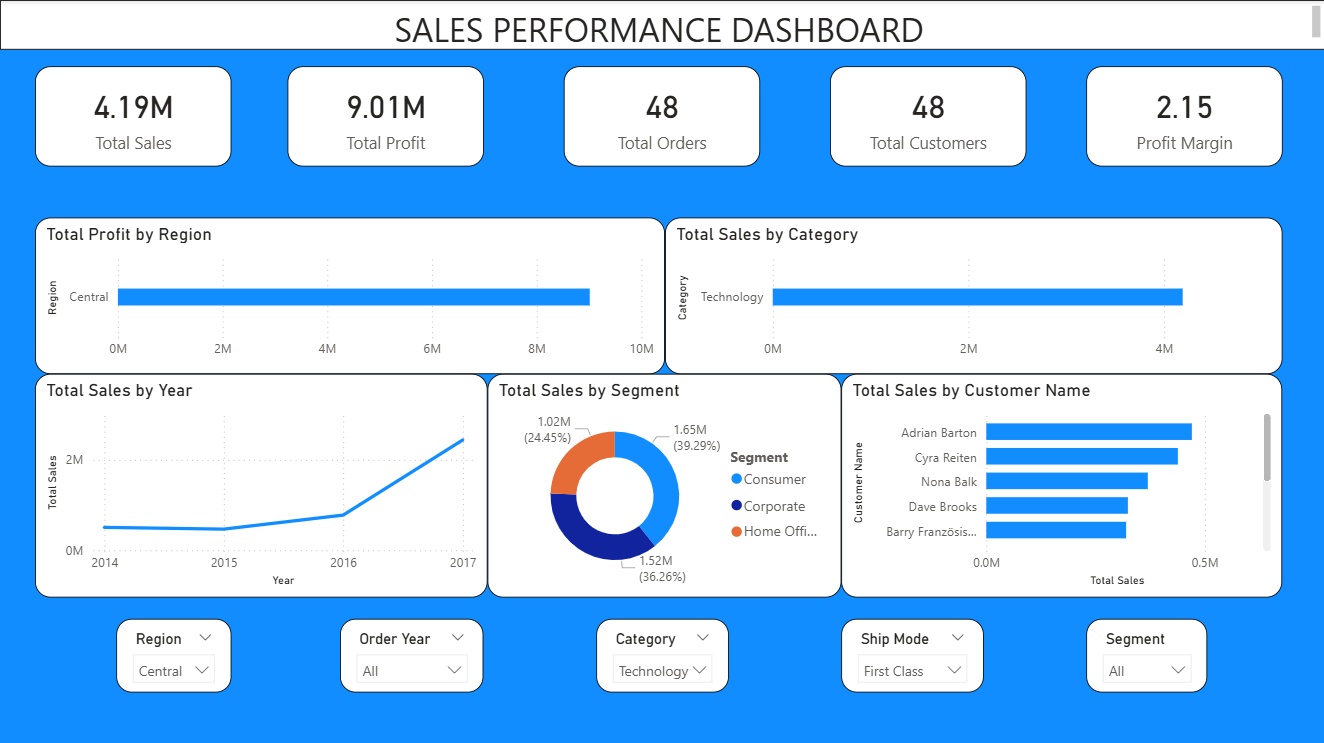

The page's visual inventory and layout, read from the dashboard file:
{"tool":"powerbi","page":{"name":"Page 1","canvas":[1280,720],"ordinal":0},"visuals":[{"type":"textbox","box":[0,0,1280.3,48],"z":0},{"type":"card","fields":{"Values":["superstore_clean.Total Sales"]},"box":[33.8,63.9,189.4,96.5],"z":1000},{"type":"donutChart","fields":{"Category":["superstore_clean.Segment"],"Y":["superstore_clean.Total Sales"]},"box":[470.5,360.7,341.4,216],"z":2000},{"type":"card","fields":{"Values":["superstore_clean.Total Profit"]},"box":[277.5,63.9,189.4,96.5],"z":3000},{"type":"card","fields":{"Values":["superstore_clean.Total Orders"]},"box":[544.1,63.9,189.4,96.5],"z":4000},{"type":"card","fields":{"Values":["superstore_clean.Total Customers"]},"box":[801.1,63.9,189.4,96.5],"z":5000},{"type":"card","fields":{"Values":["superstore_clean.Profit Margin"]},"box":[1048.4,63.9,189.4,96.5],"z":6000},{"type":"clusteredBarChart","fields":{"Category":["superstore_clean.Region"],"Y":["superstore_clean.Total Profit"]},"box":[33.8,209.9,608,150.8],"z":7000},{"type":"clusteredBarChart","fields":{"Category":["superstore_clean.Category"],"Y":["superstore_clean.Total Sales"]},"box":[641.8,209.9,596,150.8],"z":8000},{"type":"barChart","fields":{"Category":["superstore_clean.Customer Name"],"Y":["superstore_clean.Total Sales"]},"box":[811.9,360.7,425.9,216],"z":9000},{"type":"lineChart","fields":{"Category":["superstore_clean.Order Date.Variation.Date Hierarchy.Year","superstore_clean.Order Date.Variation.Date Hierarchy.Quarter","superstore_clean.Order Date.Variation.Date Hierarchy.Month","superstore_clean.Order Date.Variation.Date Hierarchy.Day"],"Y":["superstore_clean.Total Sales"]},"box":[33.8,360.7,436.7,216],"z":10000},{"type":"slicer","fields":{"Values":["superstore_clean.Order Year"]},"box":[328.2,597.2,138.7,71.2],"z":11000},{"type":"slicer","fields":{"Values":["superstore_clean.Region"]},"box":[112.2,597.2,111,71.2],"z":12000},{"type":"slicer","fields":{"Values":["superstore_clean.Category"]},"box":[575.5,597.2,127.9,71.2],"z":13000},{"type":"slicer","fields":{"Values":["superstore_clean.Segment"]},"box":[1048.4,597.2,117,71.2],"z":14000},{"type":"slicer","fields":{"Values":["superstore_clean.Ship Mode"]},"box":[811.9,597.2,137.5,71.2],"z":15000}]}

Visuals, with their boxes in screenshot pixels (x1, y1, x2, y2), scaled from the page's 1280x720 canvas onto the 1324x743 screenshot:
textbox: bbox(0, 0, 1323, 50)
card - superstore_clean.Total Sales: bbox(35, 66, 231, 166)
donutChart - superstore_clean.Segment x superstore_clean.Total Sales: bbox(487, 372, 840, 595)
card - superstore_clean.Total Profit: bbox(287, 66, 483, 166)
card - superstore_clean.Total Orders: bbox(563, 66, 759, 166)
card - superstore_clean.Total Customers: bbox(829, 66, 1025, 166)
card - superstore_clean.Profit Margin: bbox(1084, 66, 1280, 166)
clusteredBarChart - superstore_clean.Region x superstore_clean.Total Profit: bbox(35, 217, 664, 372)
clusteredBarChart - superstore_clean.Category x superstore_clean.Total Sales: bbox(664, 217, 1280, 372)
barChart - superstore_clean.Customer Name x superstore_clean.Total Sales: bbox(840, 372, 1280, 595)
lineChart - superstore_clean.Order Date.Variation.Date Hierarchy.Year x superstore_clean.Order Date.Variation.Date Hierarchy.Quarter: bbox(35, 372, 487, 595)
slicer - superstore_clean.Order Year: bbox(339, 616, 483, 690)
slicer - superstore_clean.Region: bbox(116, 616, 231, 690)
slicer - superstore_clean.Category: bbox(595, 616, 728, 690)
slicer - superstore_clean.Segment: bbox(1084, 616, 1205, 690)
slicer - superstore_clean.Ship Mode: bbox(840, 616, 982, 690)
